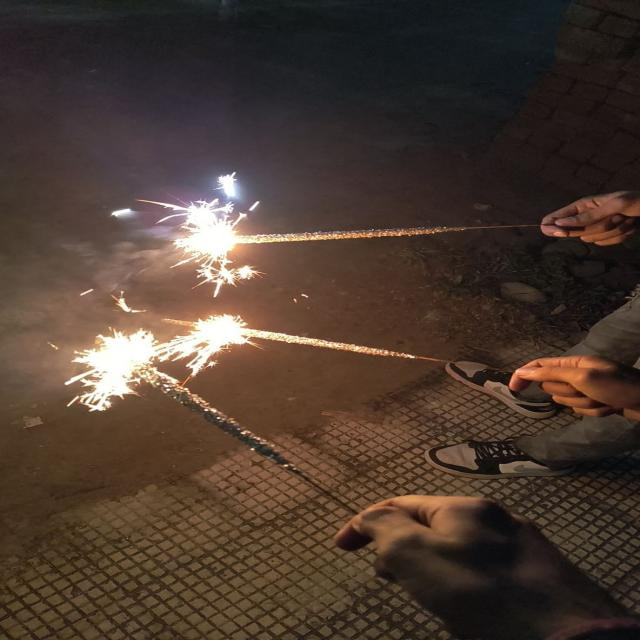fire: (77, 331, 151, 411), (151, 313, 245, 367), (171, 201, 231, 256)
